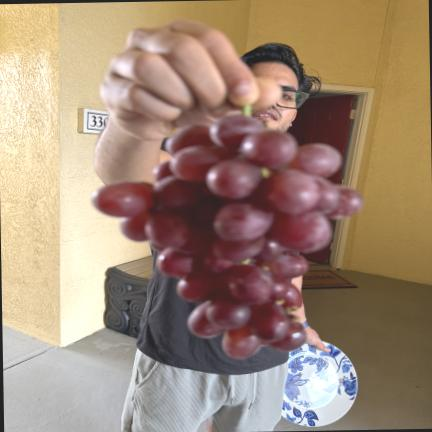grape_cluster: (92, 114, 362, 359)
